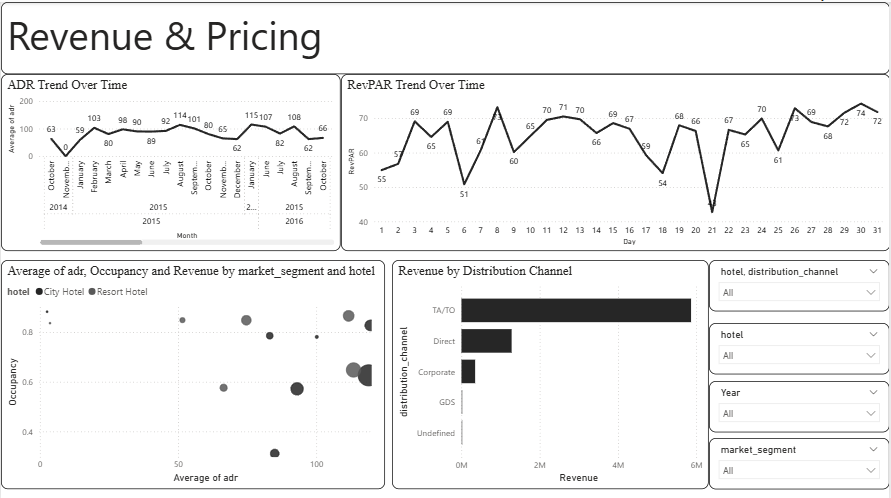

What the dashboard file says about the page in this screenshot:
{"tool":"powerbi","page":{"name":"Revenue & Pricing ","canvas":[1280,720],"ordinal":2},"visuals":[{"type":"textbox","box":[0,0,1280,104.3],"z":0},{"type":"slicer","fields":{"Values":["hotel_bookings.hotel"]},"box":[1020,463.4,260,73.8],"z":0,"group":"g1"},{"type":"lineChart","title":"ADR Trend Over Time","fields":{"Category":["hotel_bookings.arrival_date_year","hotel_bookings.reservation_status_date.Variation.Date Hierarchy.Year","hotel_bookings.reservation_status_date.Variation.Date Hierarchy.Month"],"Y":["Avg(hotel_bookings.adr)"]},"box":[0,104.3,489,255.4],"z":1000},{"type":"slicer","fields":{"Values":["hotel_bookings.reservation_status_date.Variation.Date Hierarchy.Year"]},"box":[1020,545.9,260,73.8],"z":1000,"group":"g1"},{"type":"lineChart","title":"RevPAR Trend Over Time","fields":{"Y":["hotel_bookings.RevPAR"],"Category":["hotel_bookings.reservation_status_date.Variation.Date Hierarchy.Day"]},"box":[489,104.3,791,255.4],"z":2000},{"type":"slicer","fields":{"Values":["hotel_bookings.market_segment"]},"box":[1020,628.5,260,73.8],"z":2000,"group":"g1"},{"type":"scatterChart","fields":{"X":["Avg(hotel_bookings.adr)"],"Y":["hotel_bookings.Occupancy"],"Size":["hotel_bookings.Revenue"],"Category":["hotel_bookings.market_segment"],"Series":["hotel_bookings.hotel"]},"box":[0,372.2,552.8,330.1],"z":3000},{"type":"slicer","fields":{"Values":["hotel_bookings.hotel","hotel_bookings.distribution_channel"]},"box":[1020,372.2,260,73.8],"z":3000,"group":"g1"},{"type":"barChart","title":"Revenue by Distribution Channel","fields":{"Category":["hotel_bookings.distribution_channel"],"Y":["hotel_bookings.Revenue"]},"box":[563.7,372.2,456.3,330.1],"z":4000},{"type":"group","id":"g1","title":"Group 1","box":[1020,372.2,260,330.1],"z":5000}]}

Visuals, with their boxes in screenshot pixels (x1, y1, x2, y2), scaled from the page's 1280x720 canvas onto the 891x498 screenshot:
textbox: [x1=0, y1=0, x2=890, y2=72]
slicer - hotel_bookings.hotel: [x1=710, y1=321, x2=890, y2=372]
"ADR Trend Over Time" lineChart: [x1=0, y1=72, x2=340, y2=249]
slicer - hotel_bookings.reservation_status_date.Variation.Date Hierarchy.Year: [x1=710, y1=378, x2=890, y2=429]
"RevPAR Trend Over Time" lineChart: [x1=340, y1=72, x2=890, y2=249]
slicer - hotel_bookings.market_segment: [x1=710, y1=435, x2=890, y2=486]
scatterChart - Avg(hotel_bookings.adr) x hotel_bookings.Occupancy: [x1=0, y1=257, x2=385, y2=486]
slicer - hotel_bookings.hotel x hotel_bookings.distribution_channel: [x1=710, y1=257, x2=890, y2=308]
"Revenue by Distribution Channel" barChart: [x1=392, y1=257, x2=710, y2=486]
"Group 1" group: [x1=710, y1=257, x2=890, y2=486]
